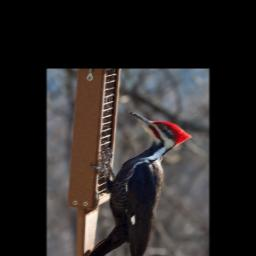Woodpecker: (76, 110, 193, 256)
